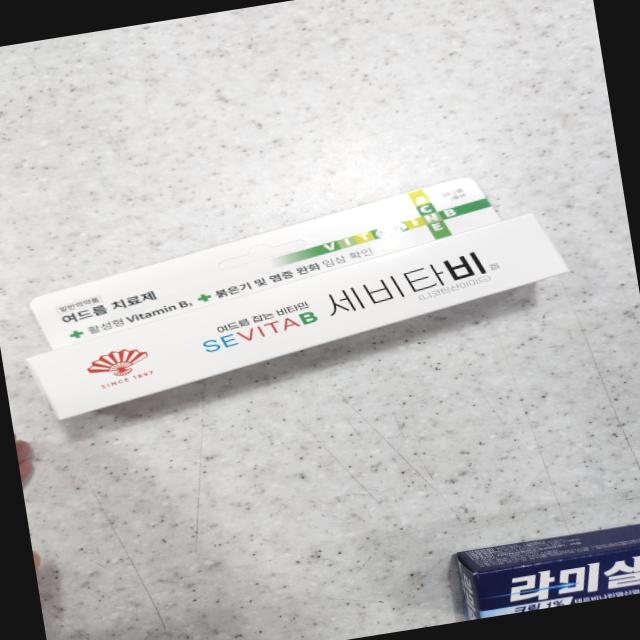box: (17, 210, 578, 423), (454, 518, 640, 621)
